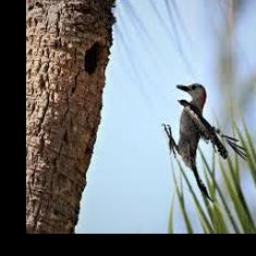Woodpecker: (162, 84, 249, 202)
